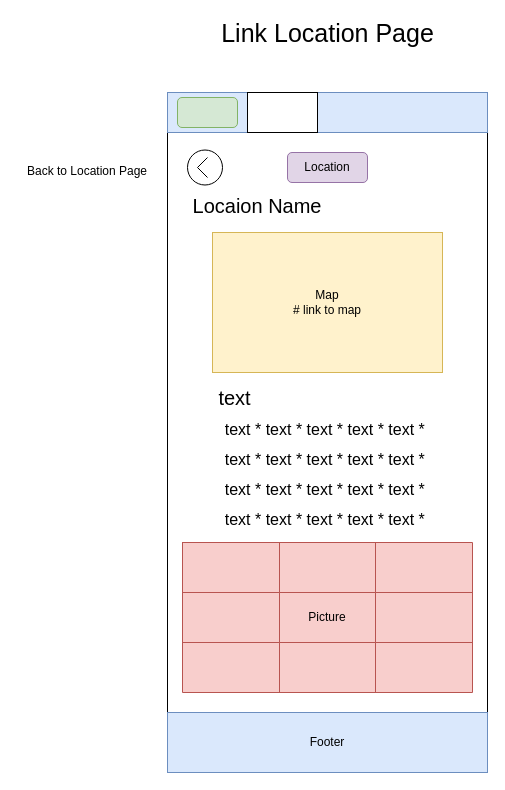
Image size: 505x790. Some labels were removed from this diagram. The centre of each missing label's shape, as x and y in pixels:
"Logo" goes at [207,112].
"Menu" goes at [282,112].
